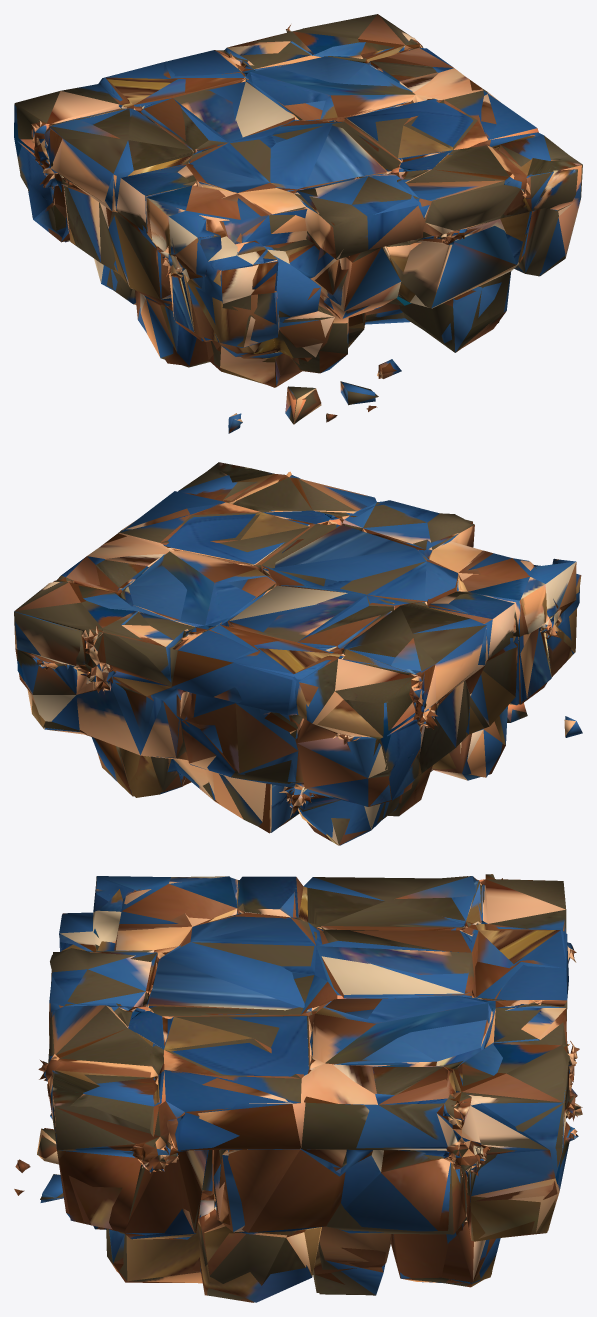
Rendered from VD_Platform_Damaged_01_LOD1.fbx.
The picture shows the model from 3 angles, top to bottom: view 1: azimuth 30°, elevation 25°; view 2: azimuth 150°, elevation 25°; view 3: azimuth 270°, elevation 25°; orthographic projection. The views are drawn at different scales.
Parts seen in each view (by area): view 1: Mesh_0; view 2: Mesh_0; view 3: Mesh_0.
Part boxes in pixels (bbox=[...]): Mesh_0: bbox=[14, 14, 582, 433]; Mesh_0: bbox=[14, 462, 582, 845]; Mesh_0: bbox=[14, 874, 582, 1302].
Size of the model in its own units: 187 by 92.7 by 189.
